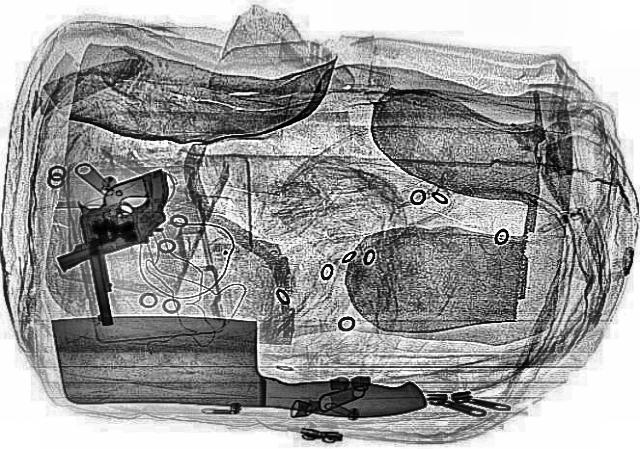Gun: (67, 170, 197, 324), (16, 167, 206, 271)
Knife: (50, 313, 426, 417)
